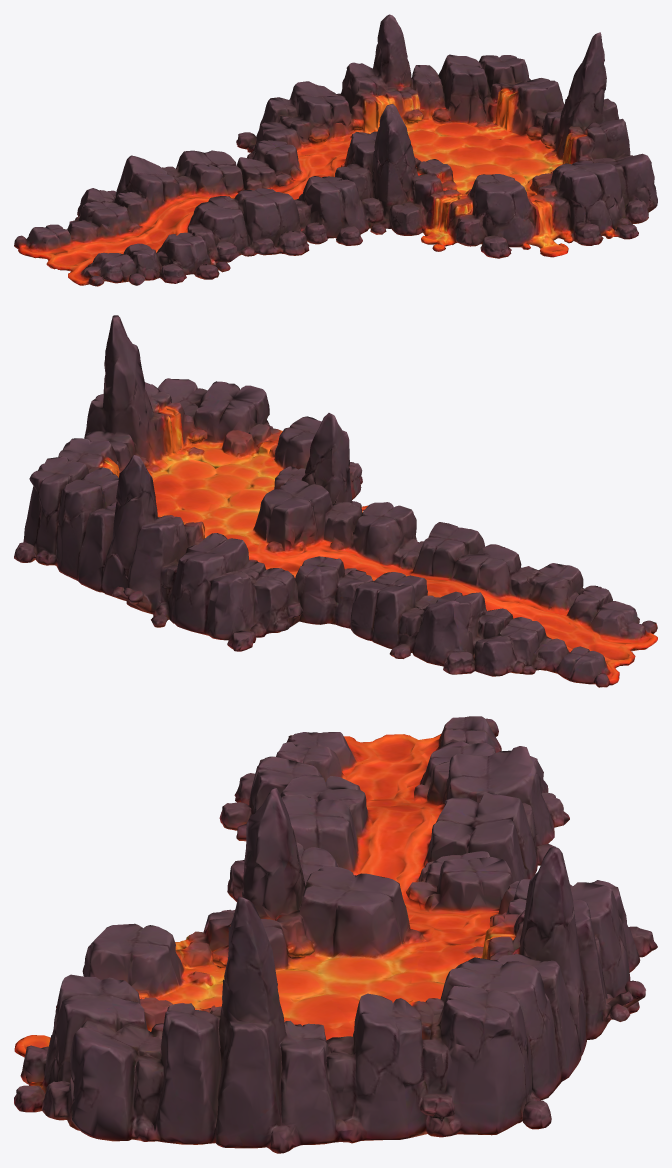
File: lava_river_end.glb
3 renders of one model, top to bottom at view 1: azimuth 30°, elevation 25°; view 2: azimuth 150°, elevation 25°; view 3: azimuth 270°, elevation 25°, orthographic. The views are drawn at different scales.
Parts seen in each view (by area): view 1: tripo_node_8e856e2e-d4f6-4284-9639-157596721635; view 2: tripo_node_8e856e2e-d4f6-4284-9639-157596721635; view 3: tripo_node_8e856e2e-d4f6-4284-9639-157596721635.
Part boxes in pixels (left/top/right/bottom): tripo_node_8e856e2e-d4f6-4284-9639-157596721635: left=14, top=14, right=657, bottom=286; tripo_node_8e856e2e-d4f6-4284-9639-157596721635: left=14, top=315, right=657, bottom=687; tripo_node_8e856e2e-d4f6-4284-9639-157596721635: left=14, top=716, right=657, bottom=1153.
Size of the model in its own units: 0.9626 by 0.2525 by 0.613.
1 material, 1 textured.
